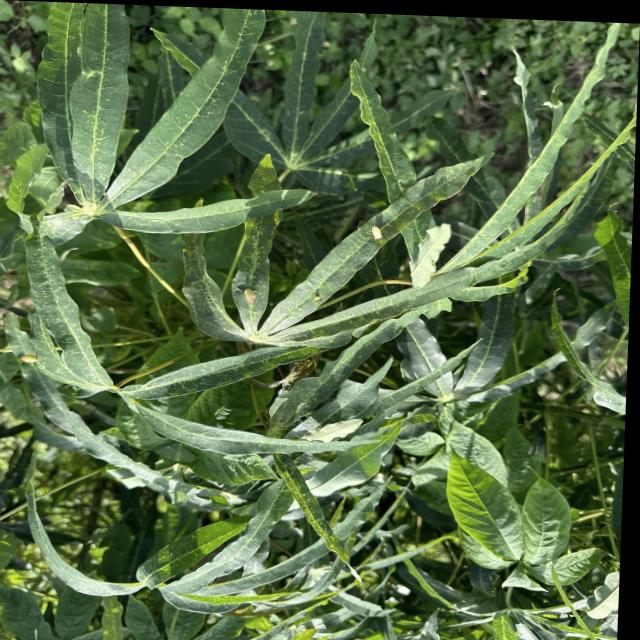Maleza: (436, 437, 604, 604)
Mosca: (364, 221, 392, 244), (15, 348, 46, 368), (238, 287, 260, 309), (307, 289, 327, 309)
